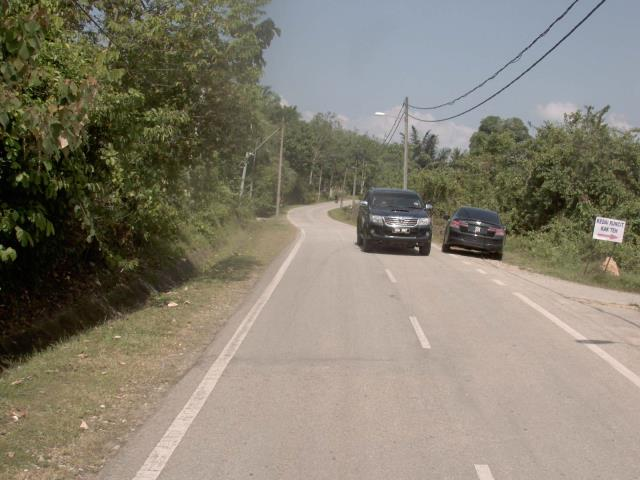ads_sign: (588, 211, 632, 248)
